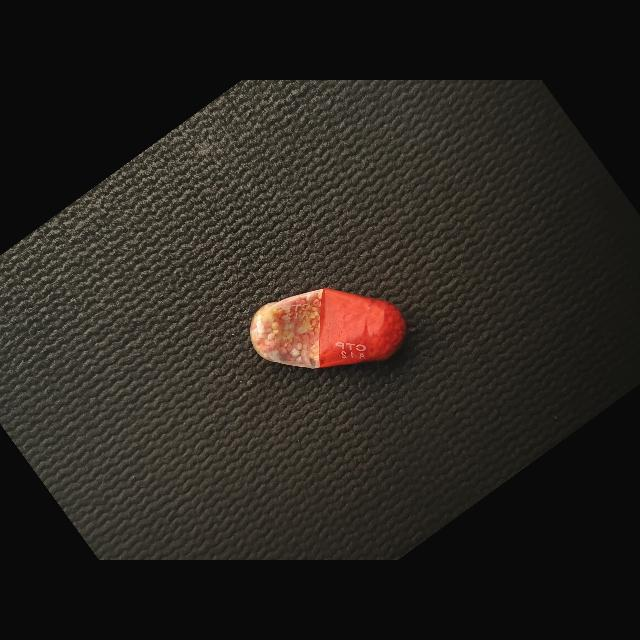Defective Capsule: (250, 287, 406, 369)
